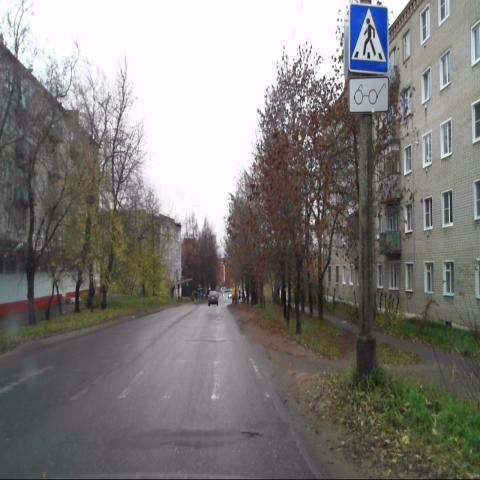8_15: (348, 79, 388, 112)
